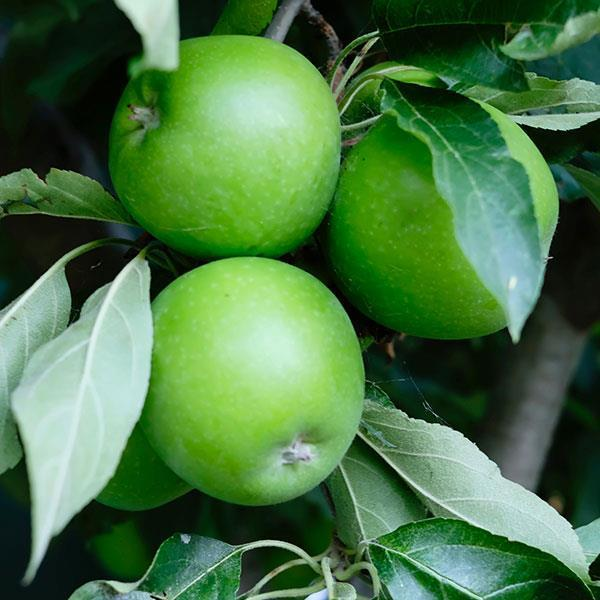apple: (329, 93, 561, 343), (138, 256, 367, 504), (108, 31, 345, 257), (91, 414, 195, 514)
